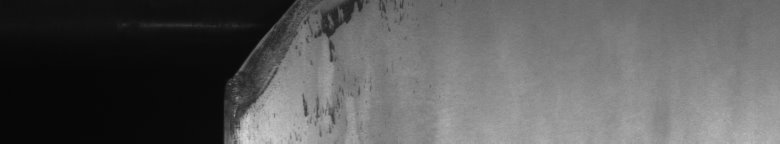kb: (222, 0, 413, 144)
